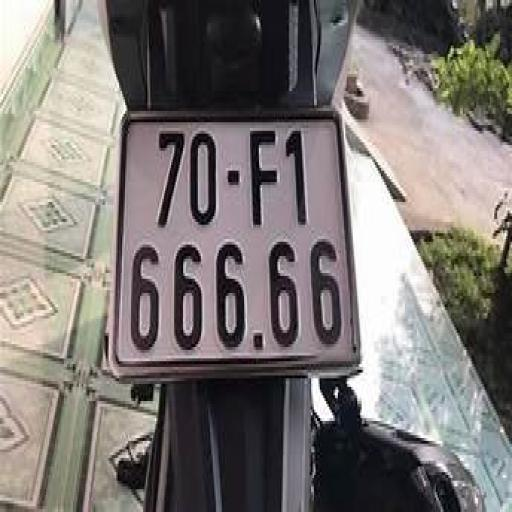place: (124, 114, 360, 361)
